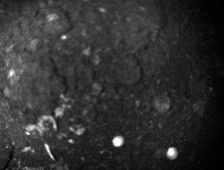corn: (165, 144, 180, 163), (110, 134, 126, 149)
